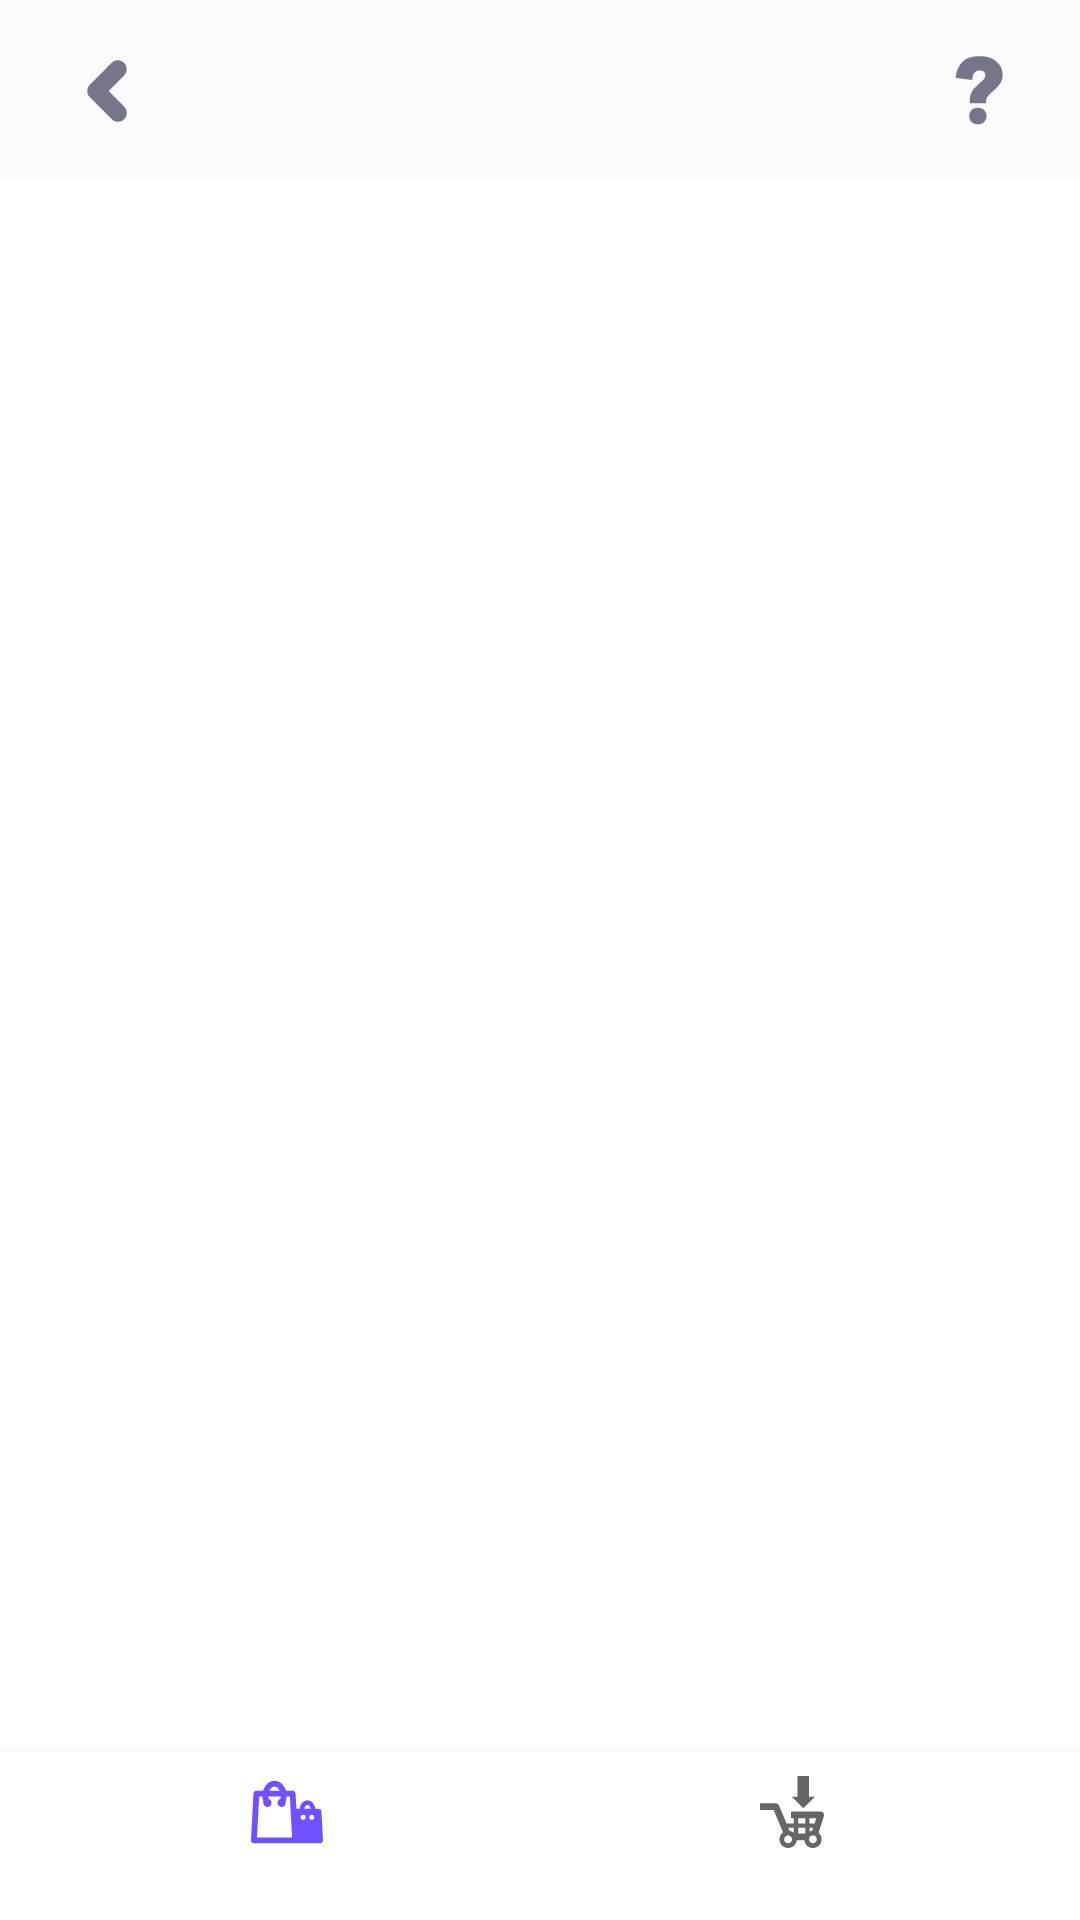

Where icons sit on this 1080×1920 app screen, as box=[x1, y1, x2, y2]:
go back: box=[87, 60, 127, 122]
